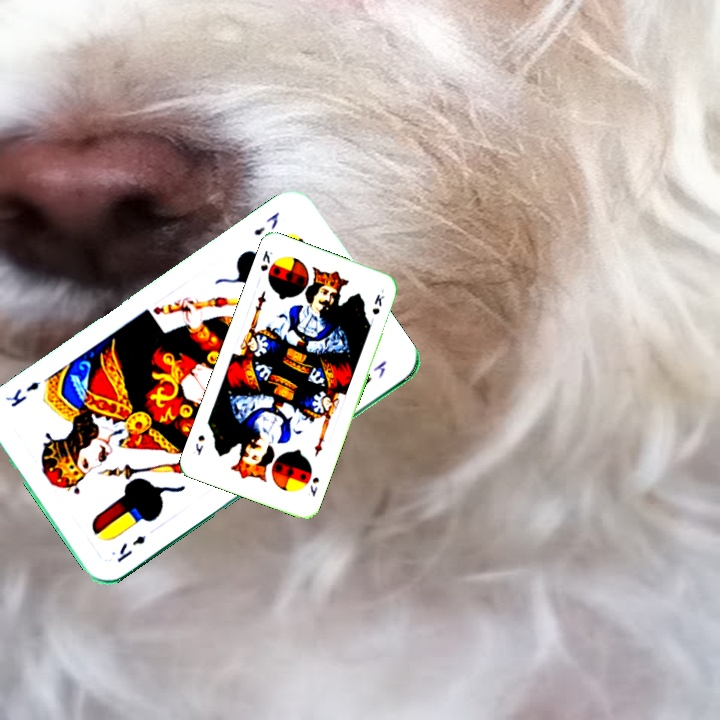EK: (113, 531, 148, 565), (249, 208, 282, 239)
SK: (256, 246, 275, 274), (304, 473, 322, 499)
